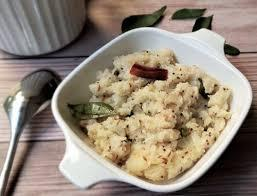upma: (54, 35, 241, 190)
